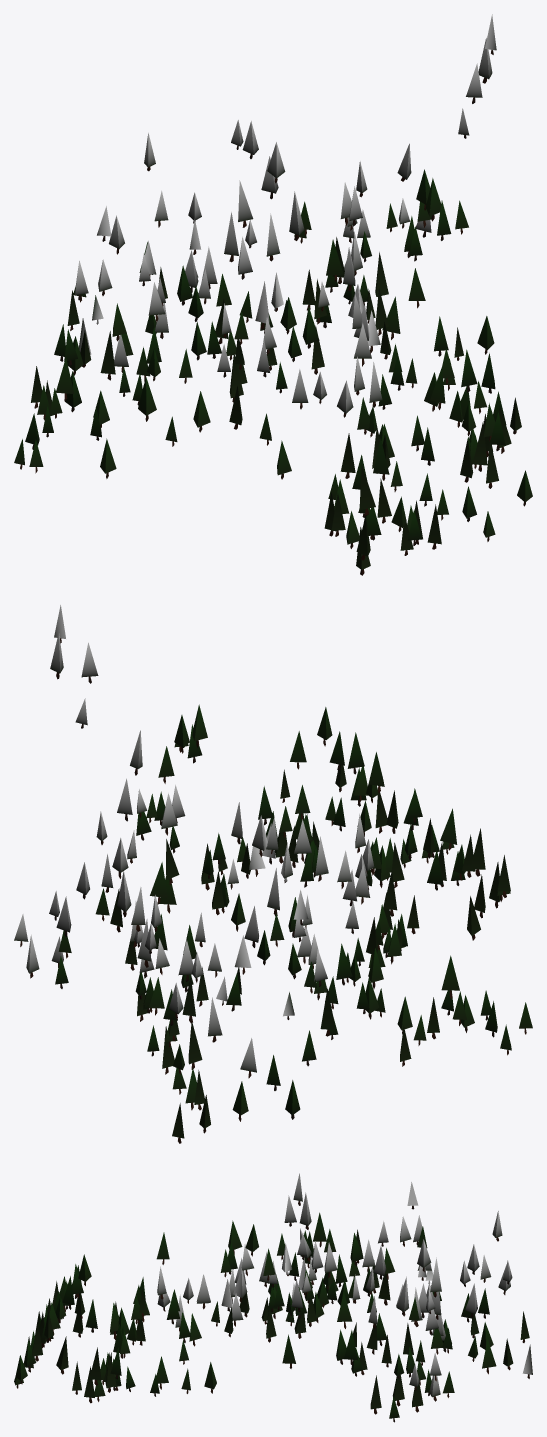
File: c_trees_mountainlake_right.fbx
3 views of the same model, one above another, from view 1: azimuth 30°, elevation 25°; view 2: azimuth 150°, elevation 25°; view 3: azimuth 270°, elevation 25° (orthographic). The views are drawn at different scales.
Parts seen in each view (by area): view 1: c_trees_mountainlake_right; view 2: c_trees_mountainlake_right; view 3: c_trees_mountainlake_right.
Boxes of the visible parts, <box> form: c_trees_mountainlake_right: <box>14,14,532,575</box>; c_trees_mountainlake_right: <box>14,605,532,1143</box>; c_trees_mountainlake_right: <box>14,1173,532,1422</box>.
Size of the model in its own units: 142 by 110 by 165.
